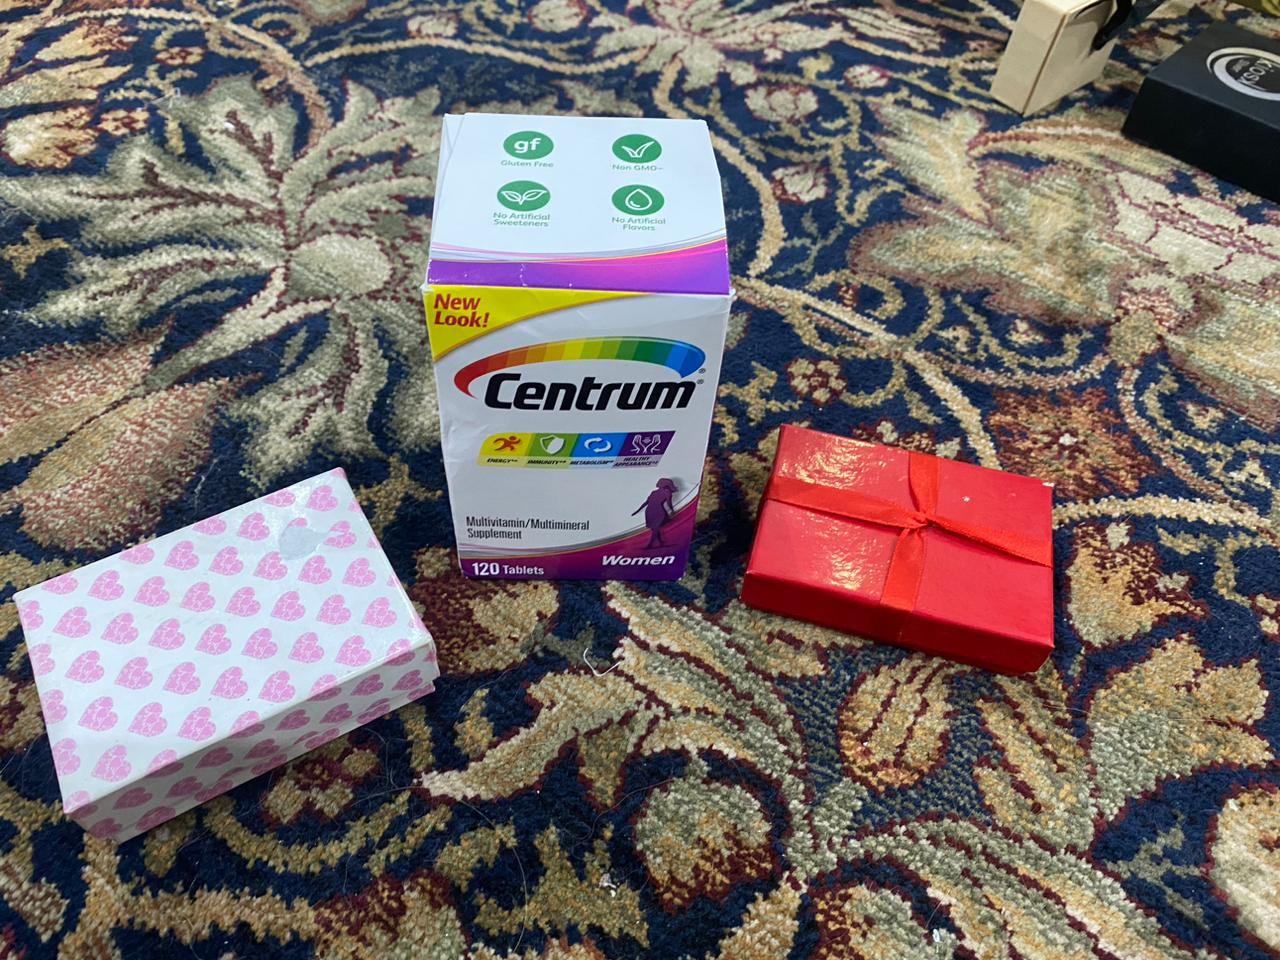Black Box: (743, 419, 1061, 676)
Centrum: (414, 107, 730, 607)
Pink Box: (11, 468, 441, 848)
